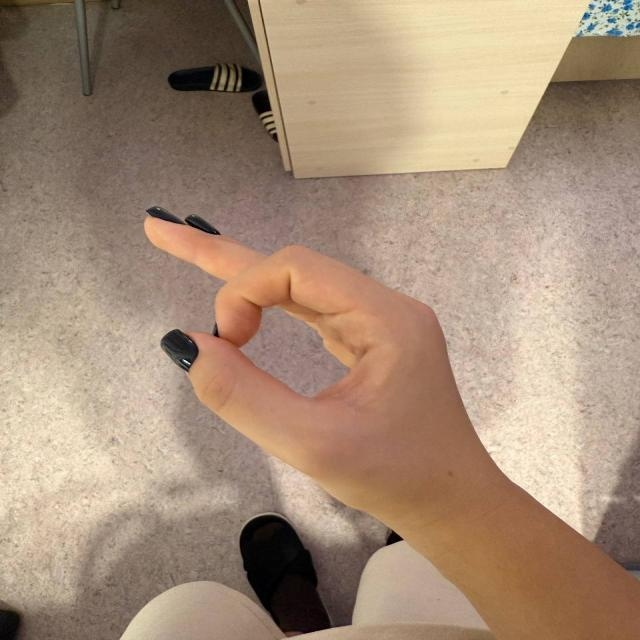o: (109, 196, 560, 546)
